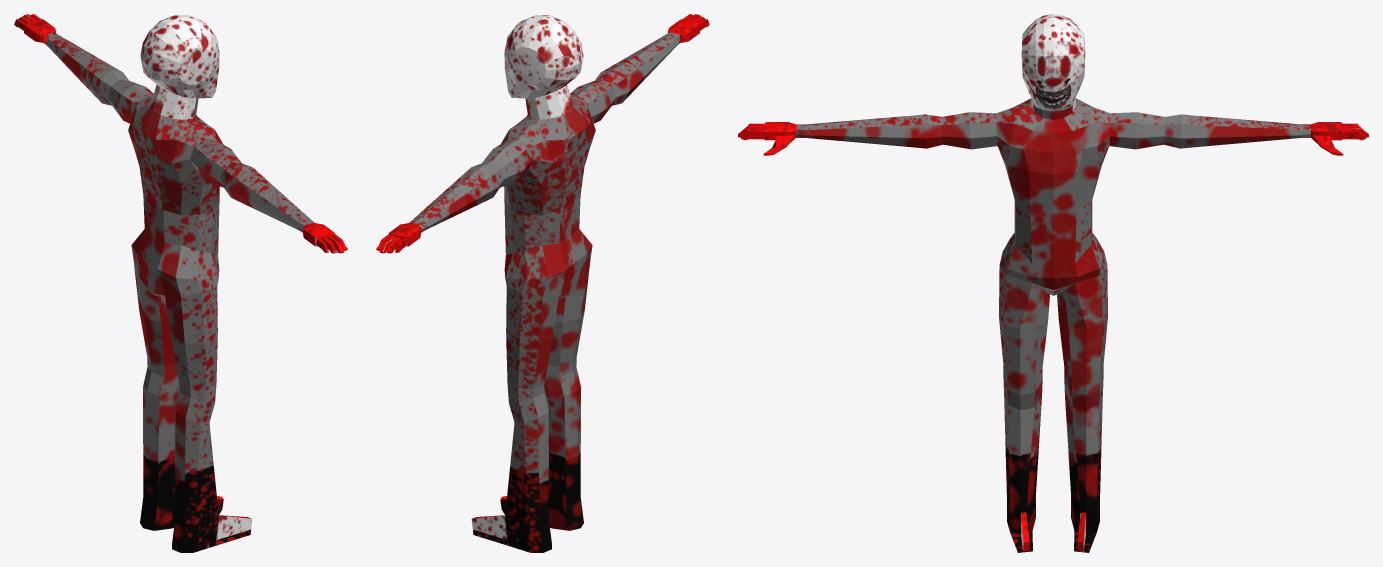
The model's file is KillerStabbing.fbx.
The picture shows the model from 3 angles, left to right: view 1: azimuth 30°, elevation 25°; view 2: azimuth 150°, elevation 25°; view 3: azimuth 270°, elevation 25°; orthographic projection.
Parts seen in each view (by area): view 1: Killer.001; view 2: Killer.001; view 3: Killer.001.
Part boxes in pixels (box(x1,y1,x2,y2)): Killer.001: box(14, 14, 347, 552); Killer.001: box(376, 14, 709, 552); Killer.001: box(738, 14, 1368, 552).
Size of the model in its own units: 102 by 541 by 604.
Materials: 1 (1 with a texture image).
